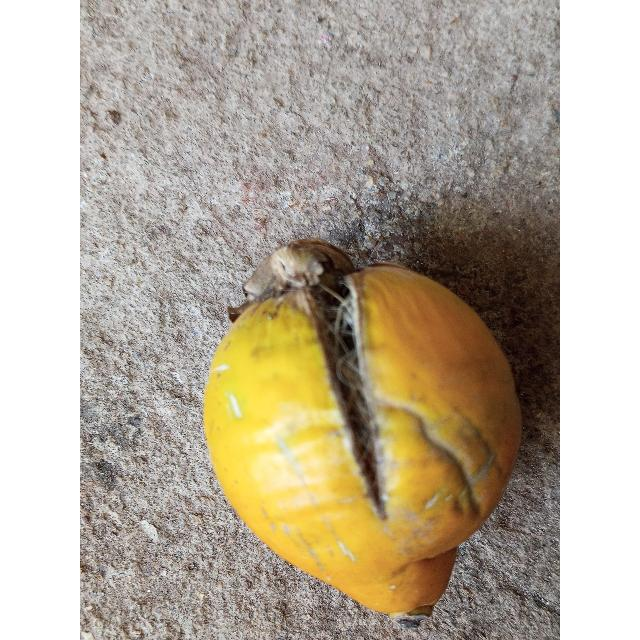damaged: (203, 241, 522, 617)
